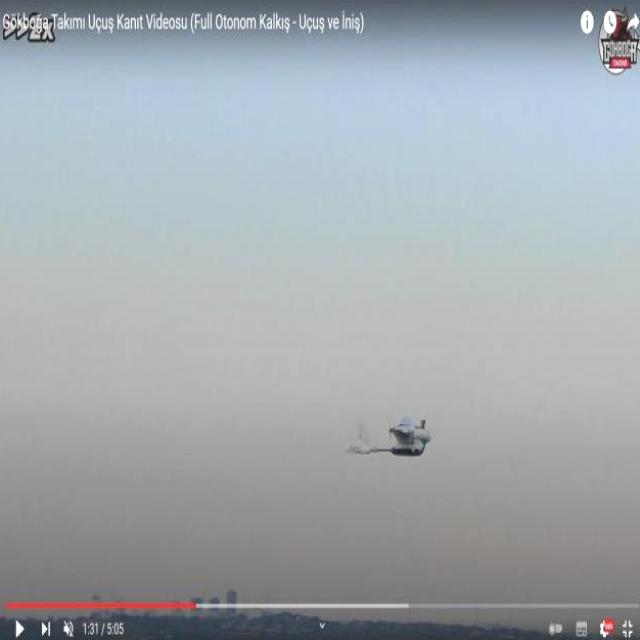plane: (346, 414, 432, 457)
